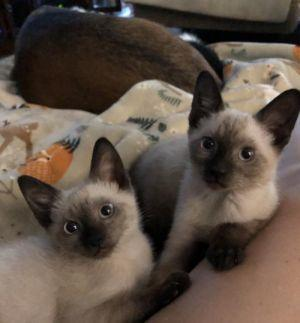siamese: (179, 64, 300, 197)
